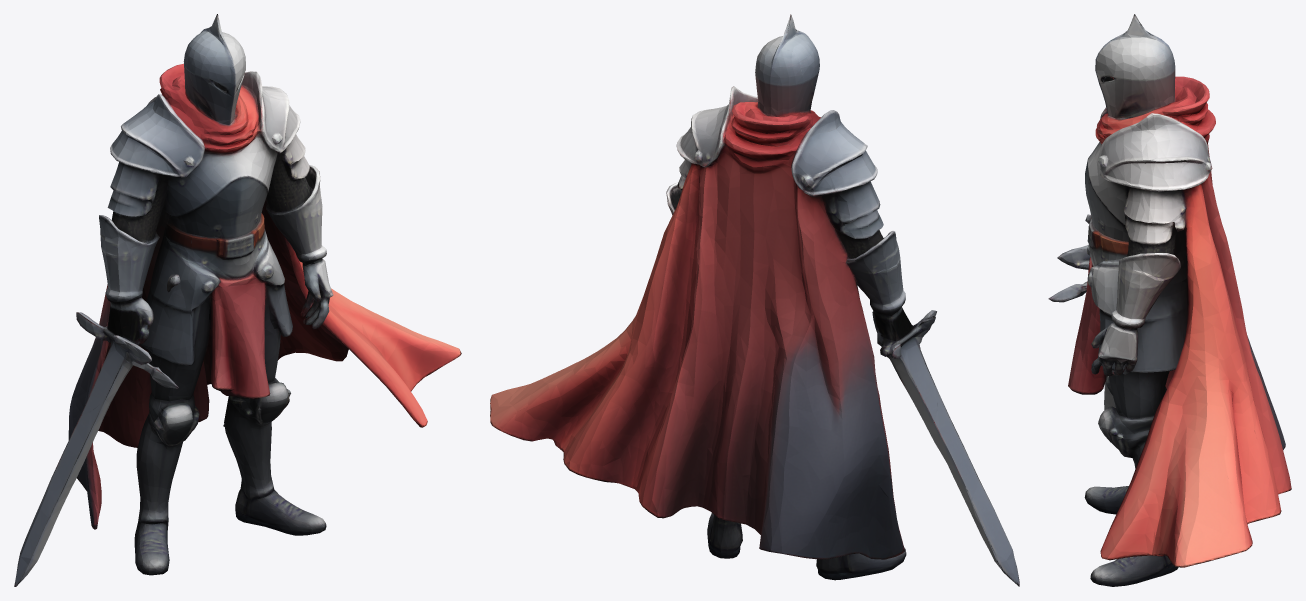
The model's file is knightModel.glb.
The picture shows the model from 3 angles, left to right: view 1: azimuth 30°, elevation 25°; view 2: azimuth 150°, elevation 25°; view 3: azimuth 270°, elevation 25°; orthographic projection. The views are drawn at different scales.
Visible parts, largest first — view 1: world; view 2: world; view 3: world.
Boxes of the visible parts, <box> form: world: <box>14,14,461,586</box>; world: <box>490,14,1019,586</box>; world: <box>1048,14,1291,586</box>.
Bounding box in the file's own units: 0.9513 × 0.9997 × 0.4153.
1 material, 1 textured.
